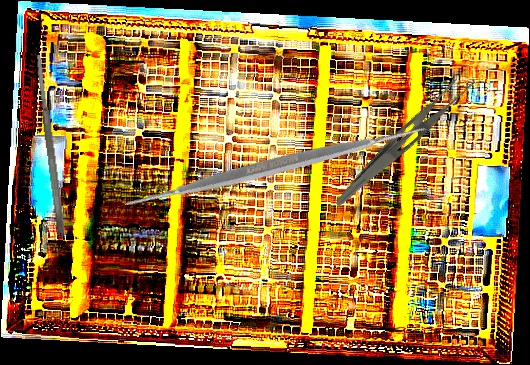Dressing Forceps: (333, 65, 478, 221)
Spatula Surgical: (111, 1, 441, 333), (34, 54, 66, 234)
